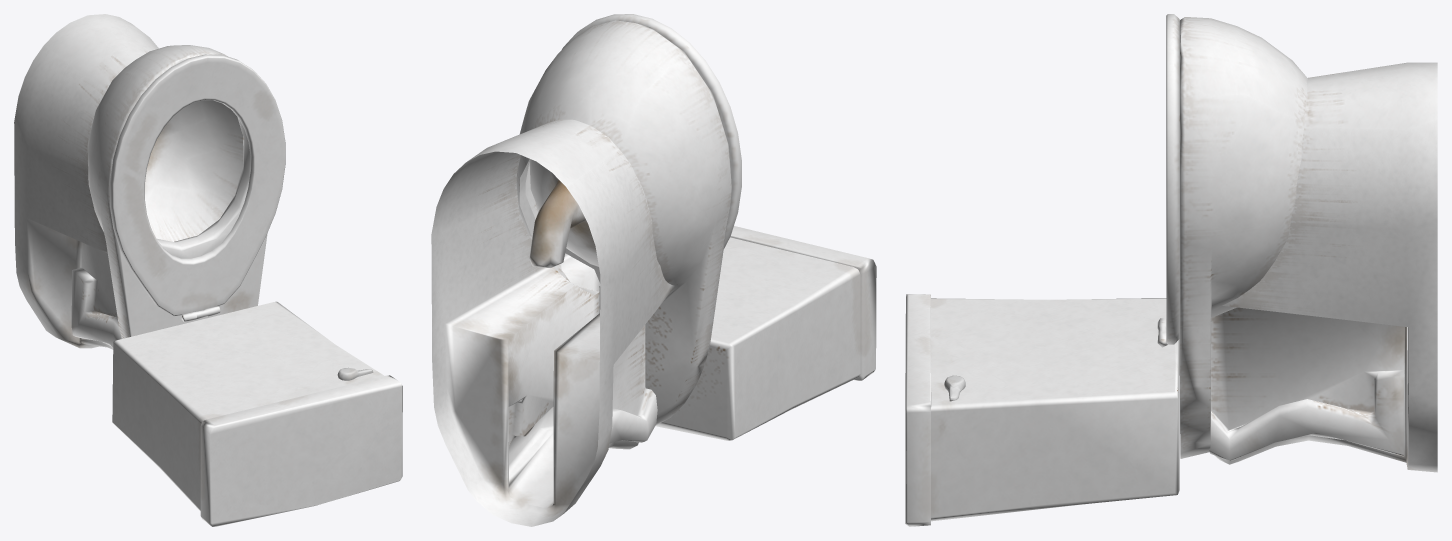
The model's file is MeshFp401_Toiletbody_0.obj.
3 views of the same model, side by side, from view 1: azimuth 30°, elevation 25°; view 2: azimuth 150°, elevation 25°; view 3: azimuth 270°, elevation 25° (orthographic). The views are drawn at different scales.
Parts seen in each view (by area): view 1: Fp401_Toiletbody; view 2: Fp401_Toiletbody; view 3: Fp401_Toiletbody.
Part boxes in pixels (bbox=[...]): Fp401_Toiletbody: bbox=[14, 14, 402, 526]; Fp401_Toiletbody: bbox=[431, 14, 876, 526]; Fp401_Toiletbody: bbox=[905, 14, 1437, 526].
Bounding box in the file's own units: 0.5295 × 0.9729 × 1.04.
1 material, 1 textured.
